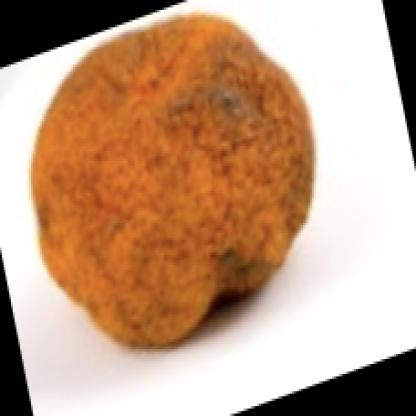rotten: (32, 25, 316, 343)
